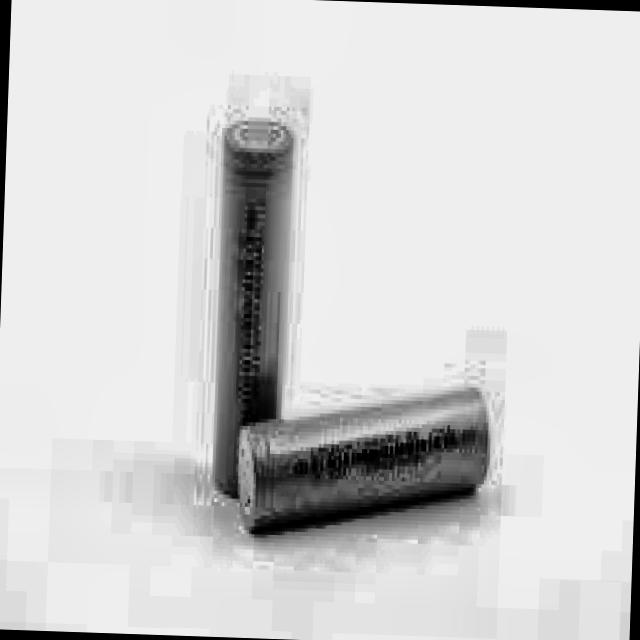Battery: (241, 383, 489, 534), (212, 120, 291, 488)
